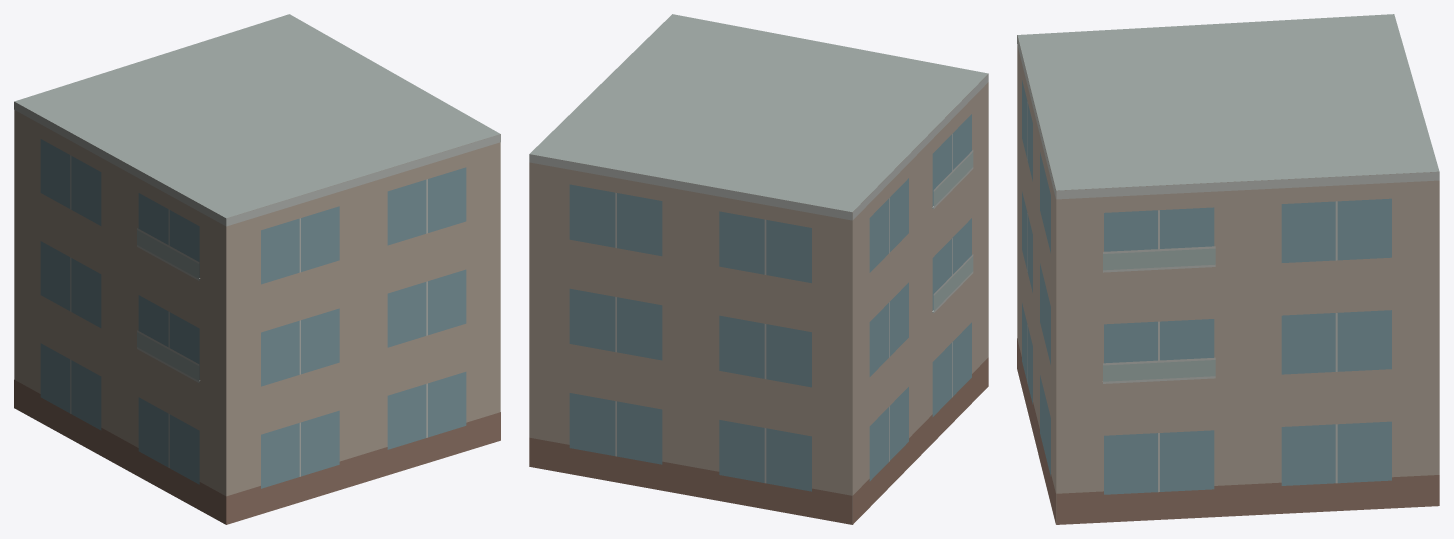
The model's file is survey-upis-32534231.glb.
3 renders of one model, left to right at view 1: azimuth 30°, elevation 25°; view 2: azimuth 150°, elevation 25°; view 3: azimuth 270°, elevation 25°, orthographic. The views are drawn at different scales.
Parts seen in each view (by area): view 1: survey-upis-32534231.tmp; view 2: survey-upis-32534231.tmp; view 3: survey-upis-32534231.tmp.
Boxes of the visible parts, bbox=[...] form: survey-upis-32534231.tmp: bbox=[14, 14, 500, 524]; survey-upis-32534231.tmp: bbox=[529, 14, 988, 524]; survey-upis-32534231.tmp: bbox=[1017, 14, 1439, 524].
Size of the model in its own units: 10.37 by 9.15 by 10.48.
